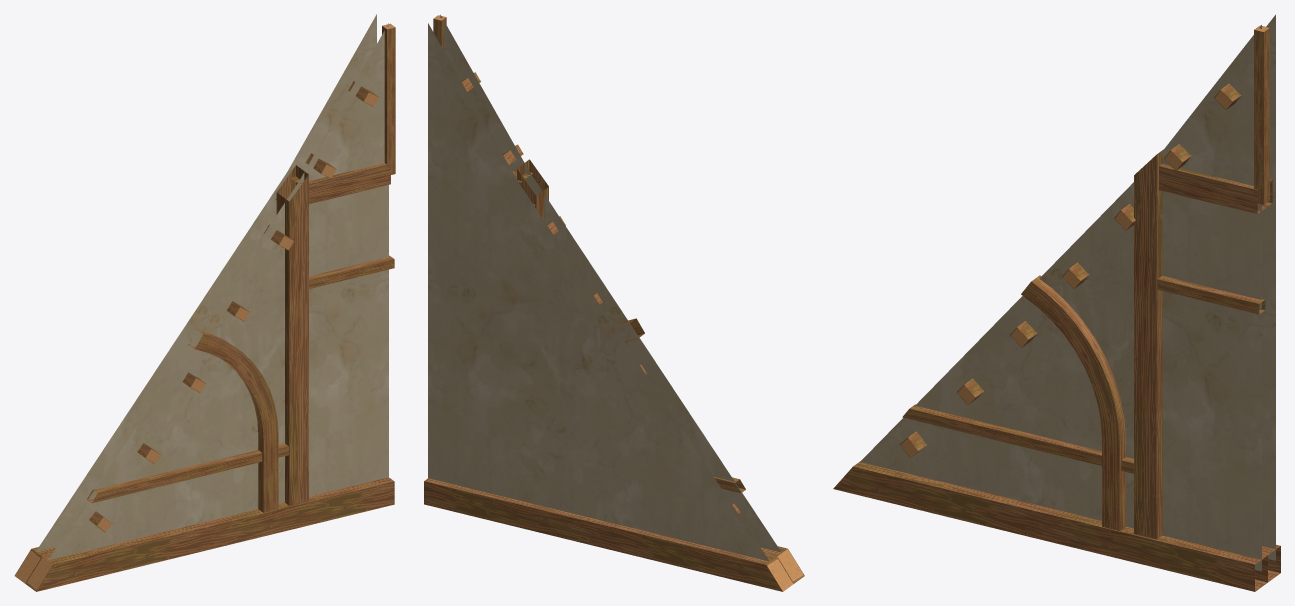
File: Roof_Front_Brick8_Half_L.gltf
3 renders of one model, left to right at view 1: azimuth 30°, elevation 25°; view 2: azimuth 150°, elevation 25°; view 3: azimuth 330°, elevation 25°, orthographic. The views are drawn at different scales.
Parts seen in each view (by area): view 1: Roof_Front_Brick8_Half_L; view 2: Roof_Front_Brick8_Half_L; view 3: Roof_Front_Brick8_Half_L.
Boxes of the visible parts, x1,y1,x2,y2 form: Roof_Front_Brick8_Half_L: (14, 14, 395, 591); Roof_Front_Brick8_Half_L: (424, 14, 804, 591); Roof_Front_Brick8_Half_L: (833, 14, 1280, 591).
Size of the model in its own units: 4.33 by 5.45 by 0.4896.
2 materials, 2 textured.
